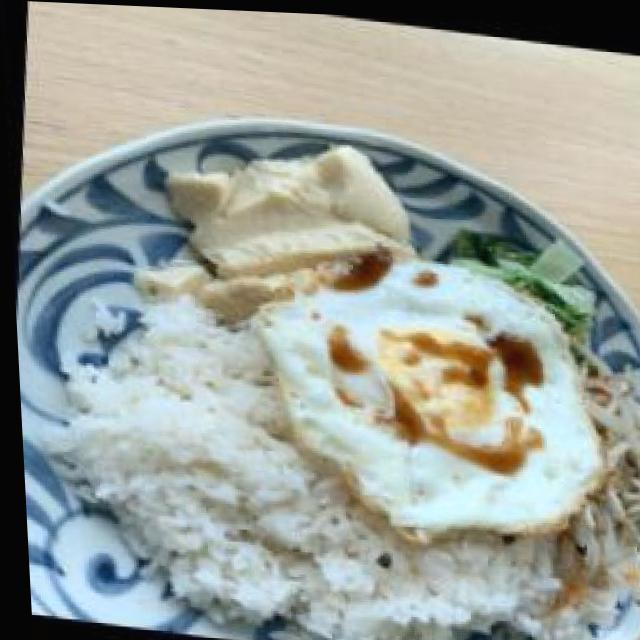fried_eggs: (295, 265, 578, 504)
mung_bean_sprouts: (573, 382, 640, 588)
rice: (34, 306, 285, 627), (250, 501, 545, 636)
